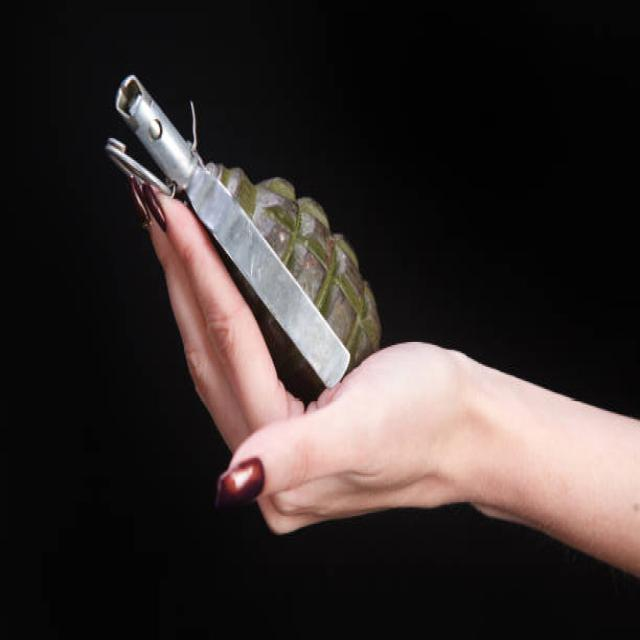grenade: (102, 66, 388, 402)
